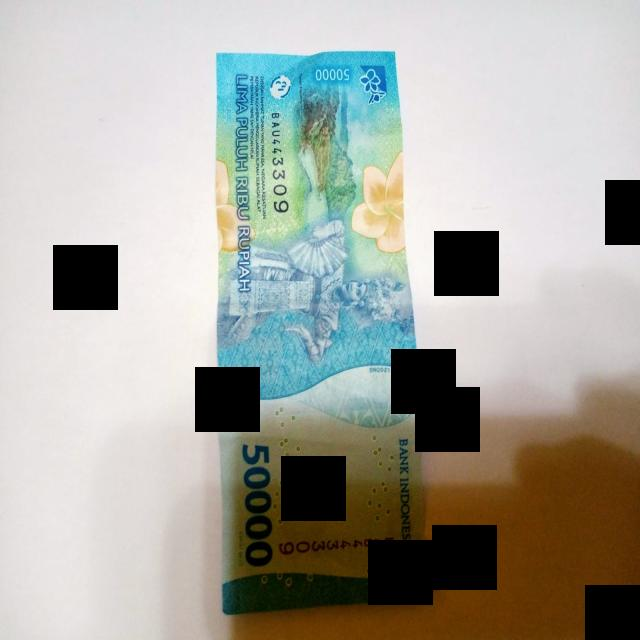lima puluh ribu rupiah: (216, 52, 430, 614)
